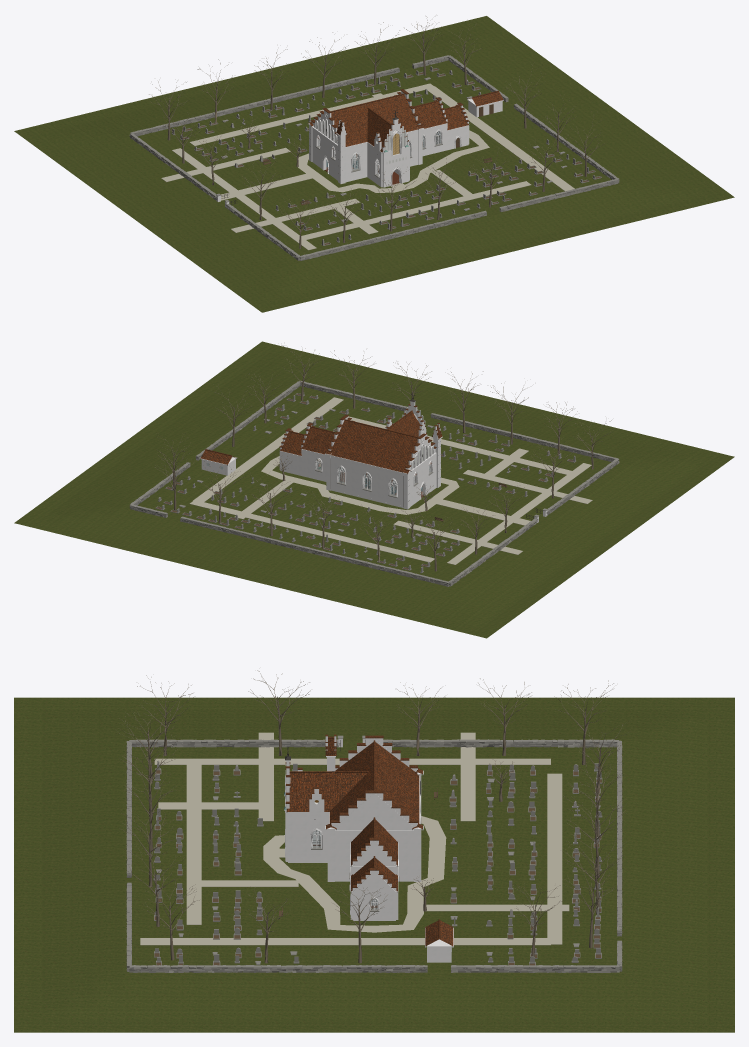
The model's file is sankt-olof.glb.
3 views of the same model, one above another, from view 1: azimuth 30°, elevation 25°; view 2: azimuth 150°, elevation 25°; view 3: azimuth 270°, elevation 25° (orthographic). The views are drawn at different scales.
Parts seen in each view (by area): view 1: landscape | Gras · hypothetische Umgebung, landscape | Naturstein, landscape | Kieswege · hypothetischer Verlauf, architecture | Kalkputz · CC0 Fotomaterial, landscape | Baumrinde · verzweigte Gerüste, architecture | Rote Dachziegel · angenähert, landscape | Dunkles Eichenholz; view 2: landscape | Gras · hypothetische Umgebung, landscape | Naturstein, landscape | Kieswege · hypothetischer Verlauf, architecture | Kalkputz · CC0 Fotomaterial, architecture | Rote Dachziegel · angenähert, landscape | Baumrinde · verzweigte Gerüste, landscape | Dunkles Eichenholz; view 3: landscape | Gras · hypothetische Umgebung, landscape | Kieswege · hypothetischer Verlauf, landscape | Naturstein, architecture | Kalkputz · CC0 Fotomaterial, landscape | Baumrinde · verzweigte Gerüste, architecture | Rote Dachziegel · angenähert, landscape | Dunkles Eichenholz, landscape | Kalkputz · CC0 Fotomaterial.
Part boxes in pixels (left/top/right/bottom): landscape | Gras · hypothetische Umgebung: left=14, top=16, right=734, bottom=312; landscape | Naturstein: left=129, top=55, right=619, bottom=260; landscape | Kieswege · hypothetischer Verlauf: left=161, top=83, right=574, bottom=250; architecture | Kalkputz · CC0 Fotomaterial: left=308, top=91, right=469, bottom=187; landscape | Baumrinde · verzweigte Gerüste: left=149, top=16, right=603, bottom=248; architecture | Rote Dachziegel · angenähert: left=308, top=89, right=469, bottom=152; landscape | Dunkles Eichenholz: left=183, top=68, right=600, bottom=244; landscape | Gras · hypothetische Umgebung: left=14, top=341, right=734, bottom=638; landscape | Naturstein: left=129, top=381, right=619, bottom=586; landscape | Kieswege · hypothetischer Verlauf: left=189, top=397, right=592, bottom=564; architecture | Kalkputz · CC0 Fotomaterial: left=279, top=401, right=442, bottom=509; architecture | Rote Dachziegel · angenähert: left=279, top=404, right=442, bottom=473; landscape | Baumrinde · verzweigte Gerüste: left=154, top=345, right=611, bottom=571; landscape | Dunkles Eichenholz: left=156, top=393, right=573, bottom=569; landscape | Gras · hypothetische Umgebung: left=14, top=697, right=734, bottom=1032; landscape | Kieswege · hypothetischer Verlauf: left=140, top=732, right=569, bottom=945; landscape | Naturstein: left=126, top=735, right=622, bottom=972; architecture | Kalkputz · CC0 Fotomaterial: left=284, top=736, right=423, bottom=920; landscape | Baumrinde · verzweigte Gerüste: left=116, top=670, right=628, bottom=963; architecture | Rote Dachziegel · angenähert: left=285, top=734, right=422, bottom=891; landscape | Dunkles Eichenholz: left=154, top=770, right=601, bottom=965; landscape | Kalkputz · CC0 Fotomaterial: left=338, top=738, right=453, bottom=962.
Bounding box in the file's own units: 110 × 17.18 × 100.
Materials: 26 (8 with a texture image).
